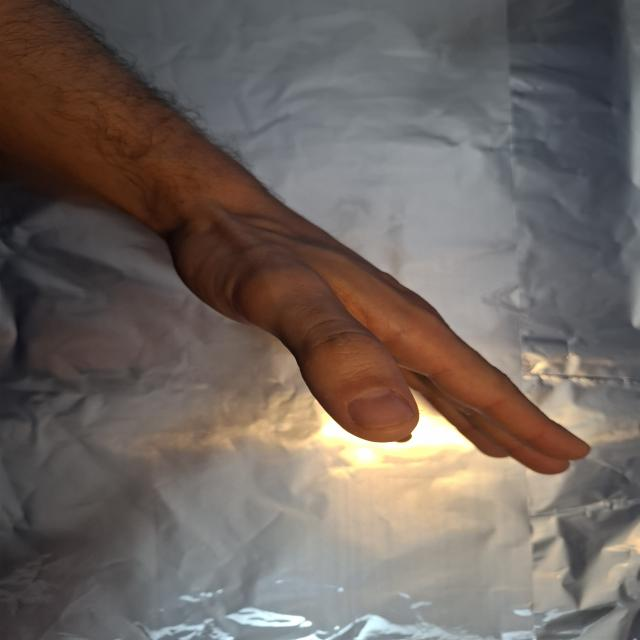glove_off: (160, 191, 594, 477)
